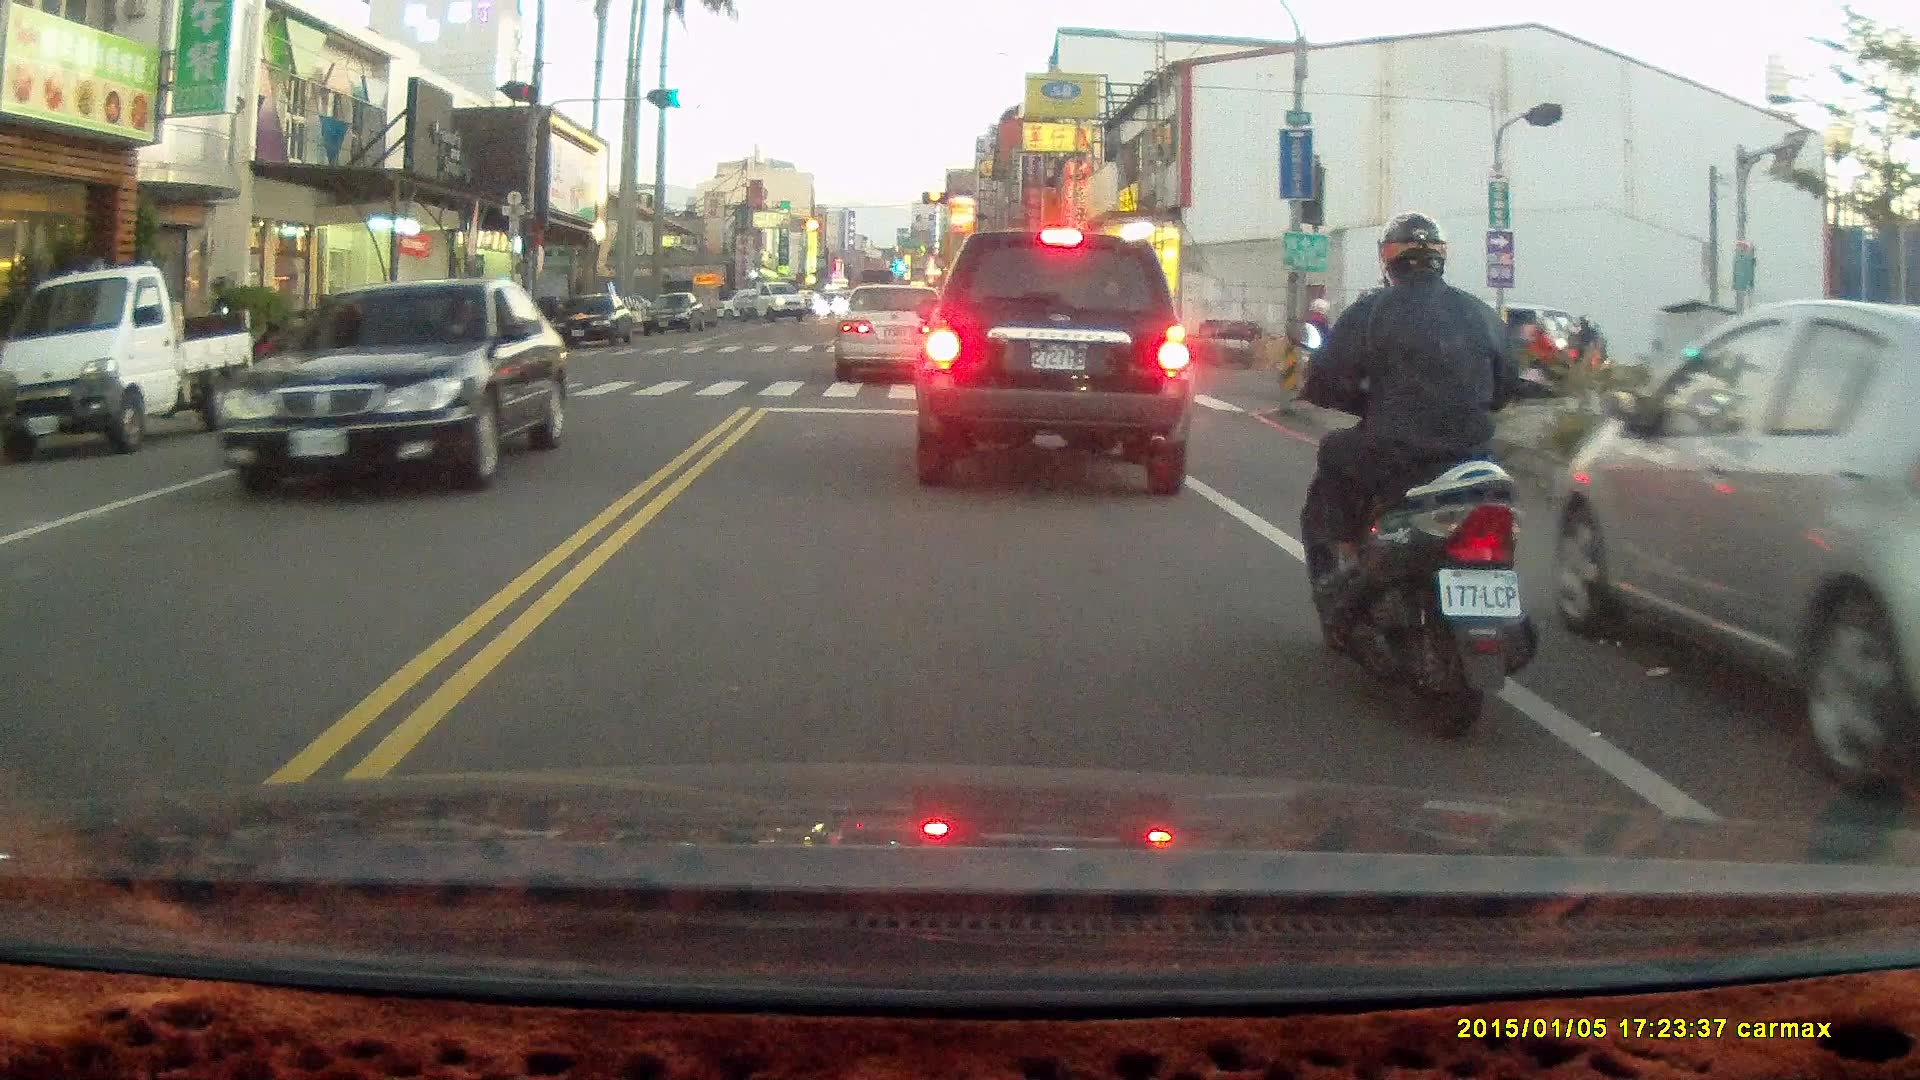rider: (1284, 213, 1541, 740), (1280, 299, 1366, 401), (1541, 313, 1611, 397)
vehicle: (1547, 298, 1920, 779), (211, 277, 573, 497), (912, 227, 1194, 498), (1, 268, 261, 458), (835, 283, 945, 380), (553, 294, 641, 351), (640, 293, 708, 338)
